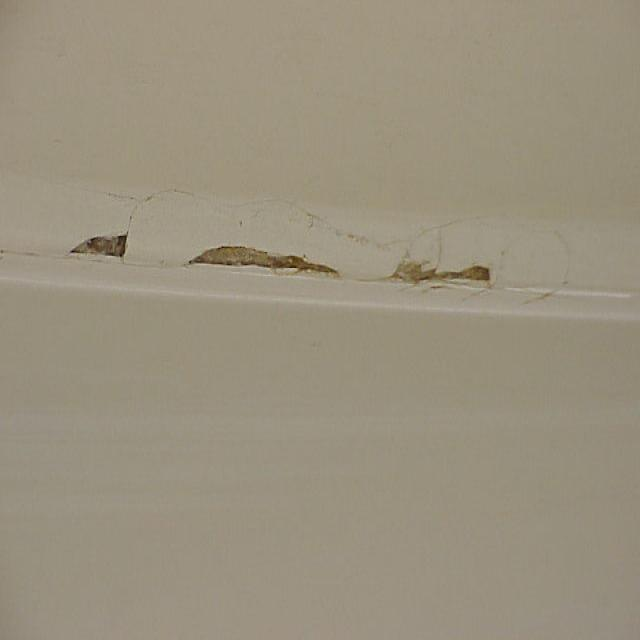Rupture: (6, 185, 189, 268), (183, 241, 346, 278), (373, 246, 489, 288)
